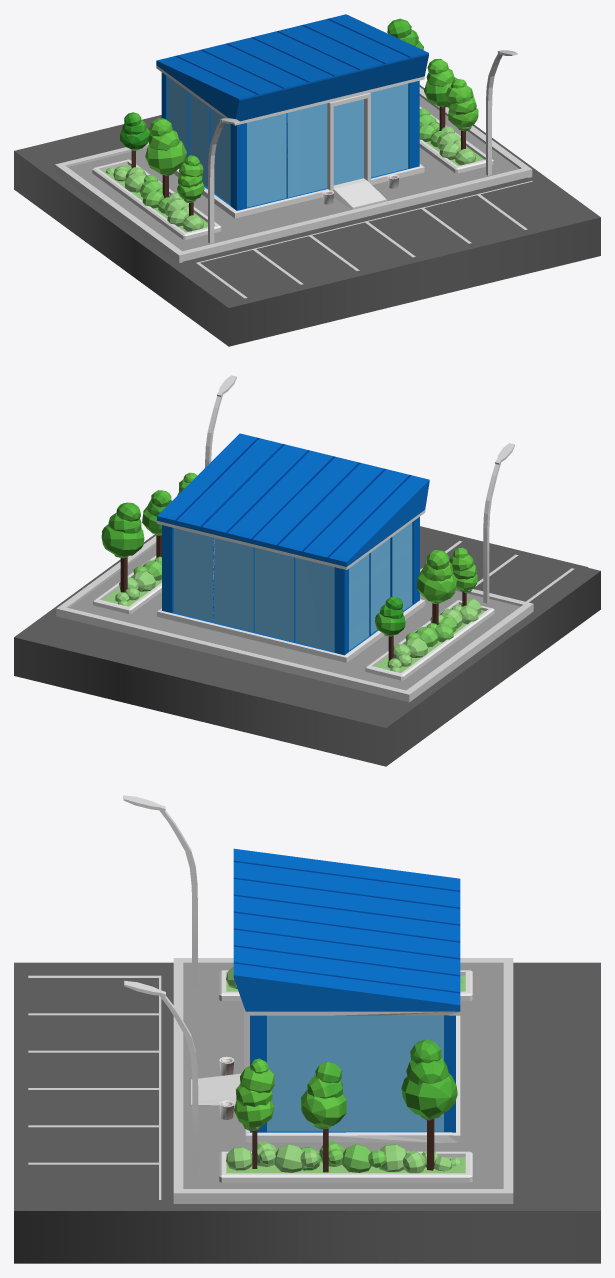
Rendered from shop1.glb.
3 renders of one model, top to bottom at view 1: azimuth 30°, elevation 25°; view 2: azimuth 150°, elevation 25°; view 3: azimuth 270°, elevation 25°, orthographic. The views are drawn at different scales.
Visible parts, largest first — view 1: Shop; view 2: Shop; view 3: Shop.
Boxes of the visible parts, left/top/right/bottom form: Shop: left=14, top=14, right=600, bottom=346; Shop: left=14, top=375, right=600, bottom=766; Shop: left=14, top=795, right=600, bottom=1263.
Bounding box in the file's own units: 2 × 0.9428 × 2.
Materials: 1 (1 with a texture image).
